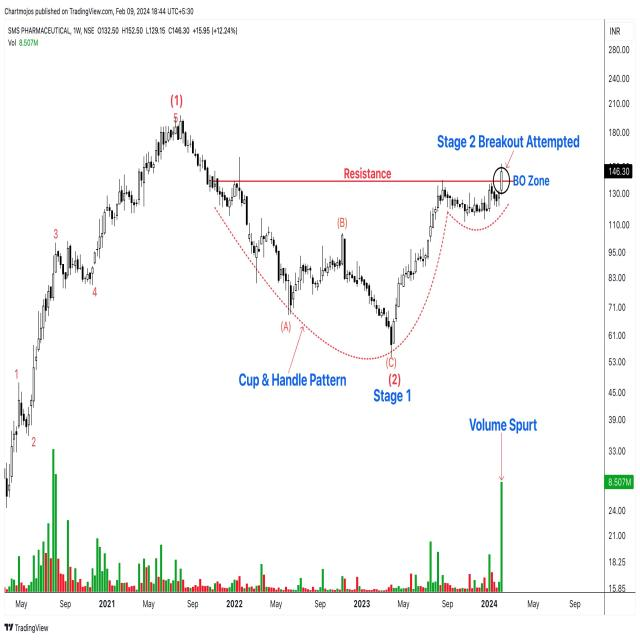Cup-and-handle: (210, 183, 513, 334)
